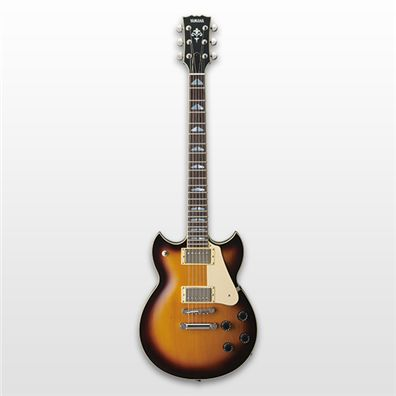ElectricGuitar: (138, 13, 260, 383)
